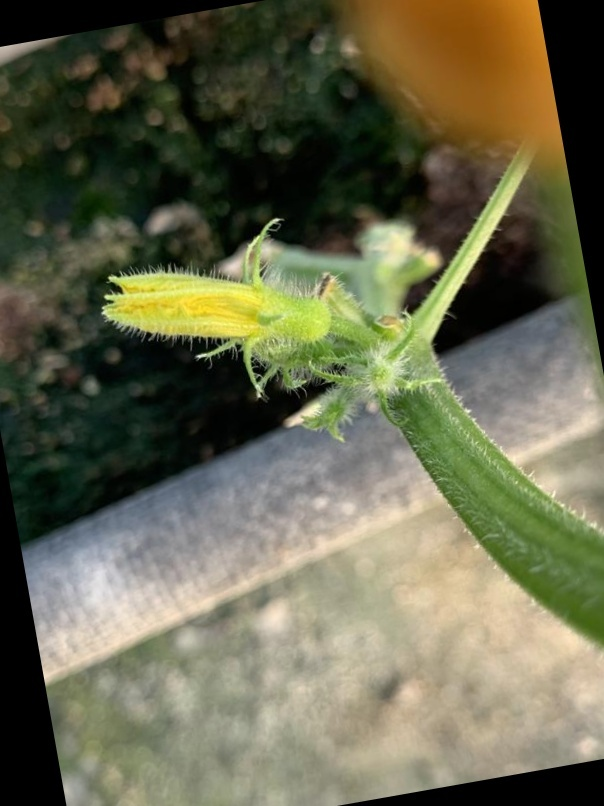bud: (102, 233, 347, 375)
